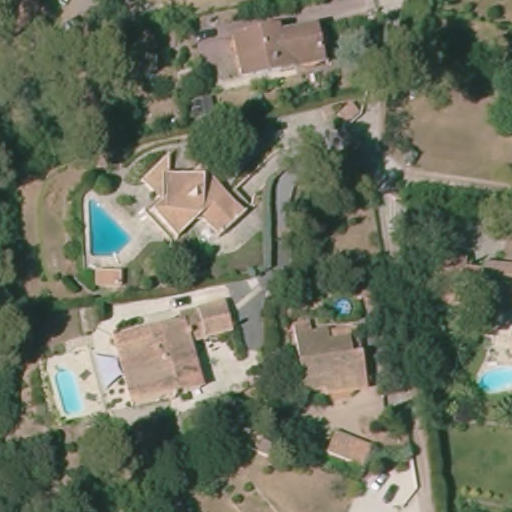pool: (78, 195, 135, 262), (48, 362, 91, 421), (475, 357, 512, 394), (334, 295, 356, 318)
